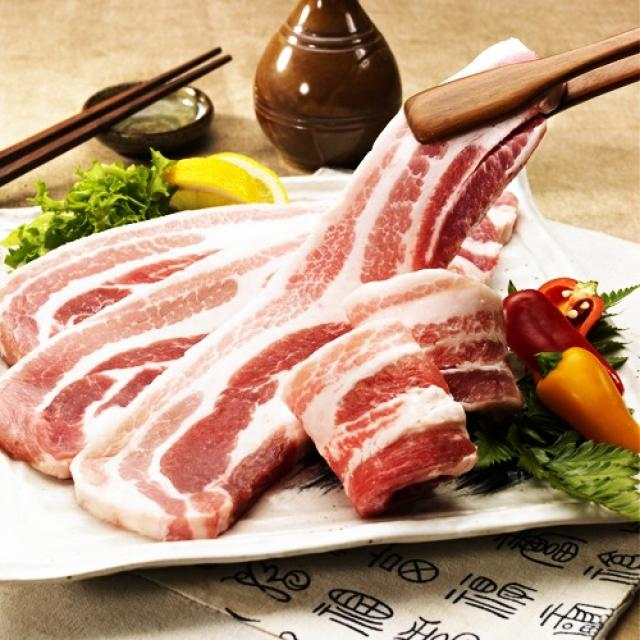pork: (18, 171, 558, 528)
